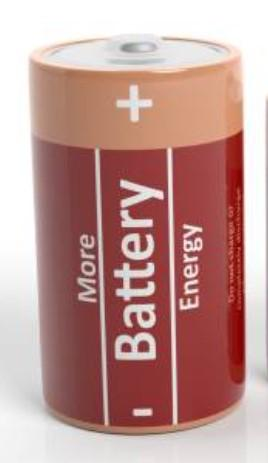Battery: (30, 34, 245, 434)
